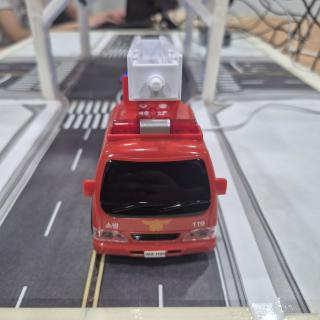Fire_truck: (83, 36, 227, 259)
